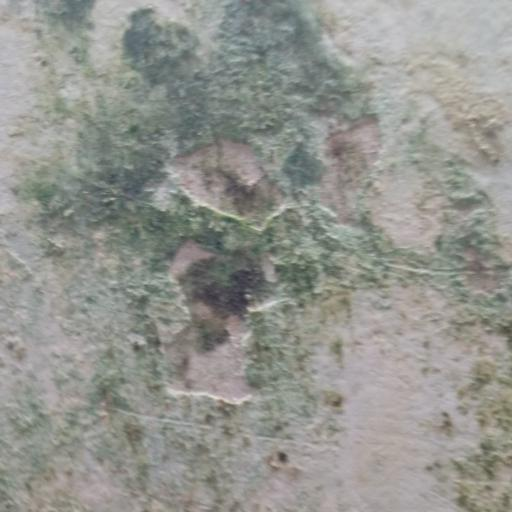algae: (31, 2, 404, 409)
